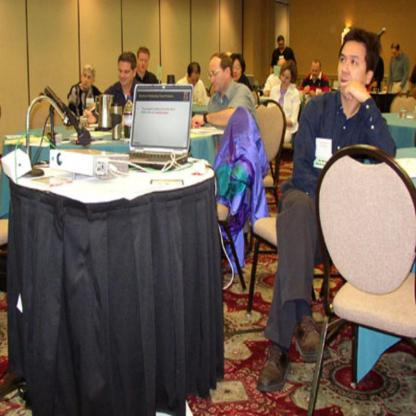board: (122, 82, 190, 169)
